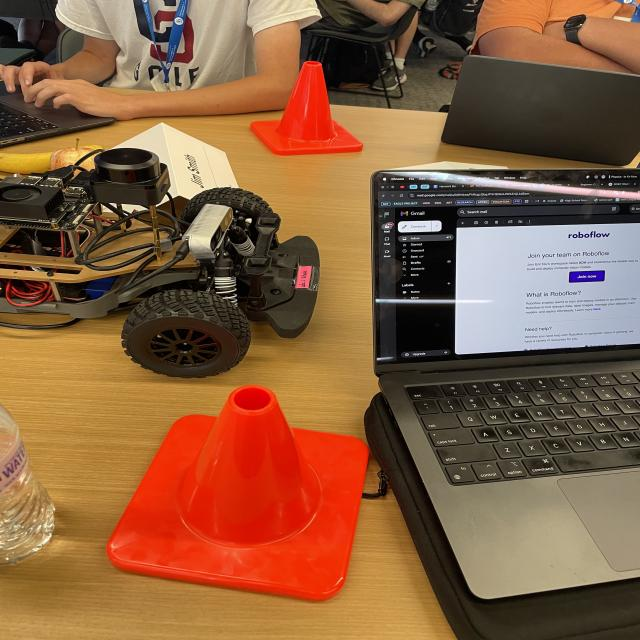Traffic Cone: (93, 378, 409, 618), (235, 60, 380, 168)
